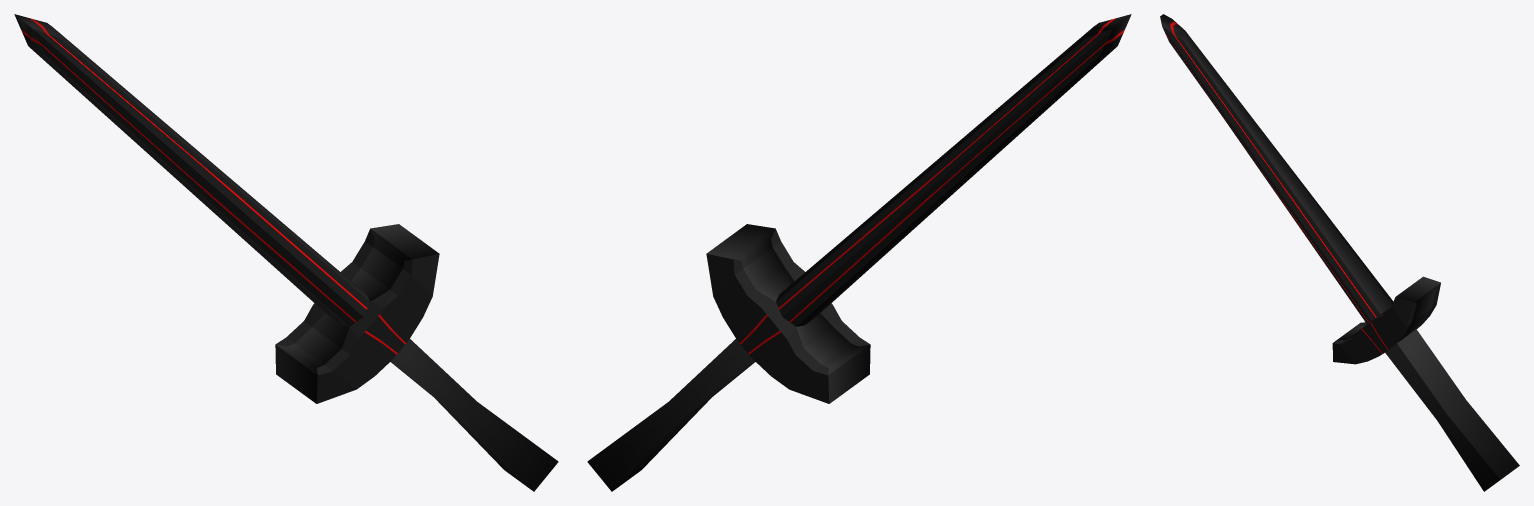
Rendered from ex_rendaring.FBX.
The picture shows the model from 3 angles, left to right: view 1: azimuth 30°, elevation 25°; view 2: azimuth 150°, elevation 25°; view 3: azimuth 330°, elevation 25°; orthographic projection. The views are drawn at different scales.
Parts seen in each view (by area): view 1: Box001; view 2: Box001; view 3: Box001.
Boxes of the visible parts, left/top/right/bottom form: Box001: left=14, top=14, right=558, bottom=491; Box001: left=587, top=14, right=1131, bottom=491; Box001: left=1160, top=14, right=1519, bottom=491.
Size of the model in its own units: 90.5 by 13.76 by 96.42.
Materials: 2 (2 with a texture image).
